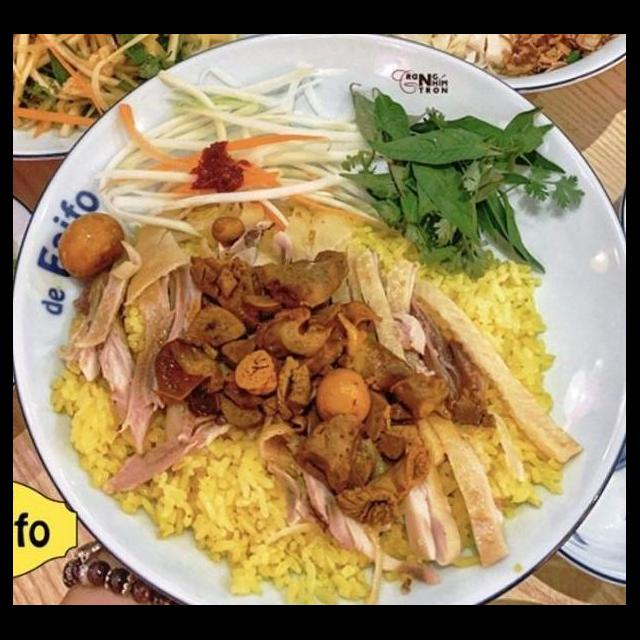com: (143, 427, 374, 606), (424, 245, 564, 418), (47, 362, 136, 490)
rau ram: (338, 78, 570, 284)
thit ga: (404, 274, 586, 466), (64, 216, 206, 460), (270, 220, 436, 380), (416, 406, 510, 572), (103, 408, 235, 496), (382, 426, 463, 568), (302, 462, 394, 570)
trung: (52, 208, 126, 284), (314, 366, 376, 431)
